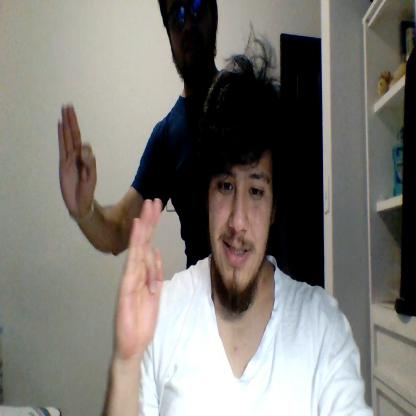F: (114, 199, 163, 360), (57, 101, 97, 215)
